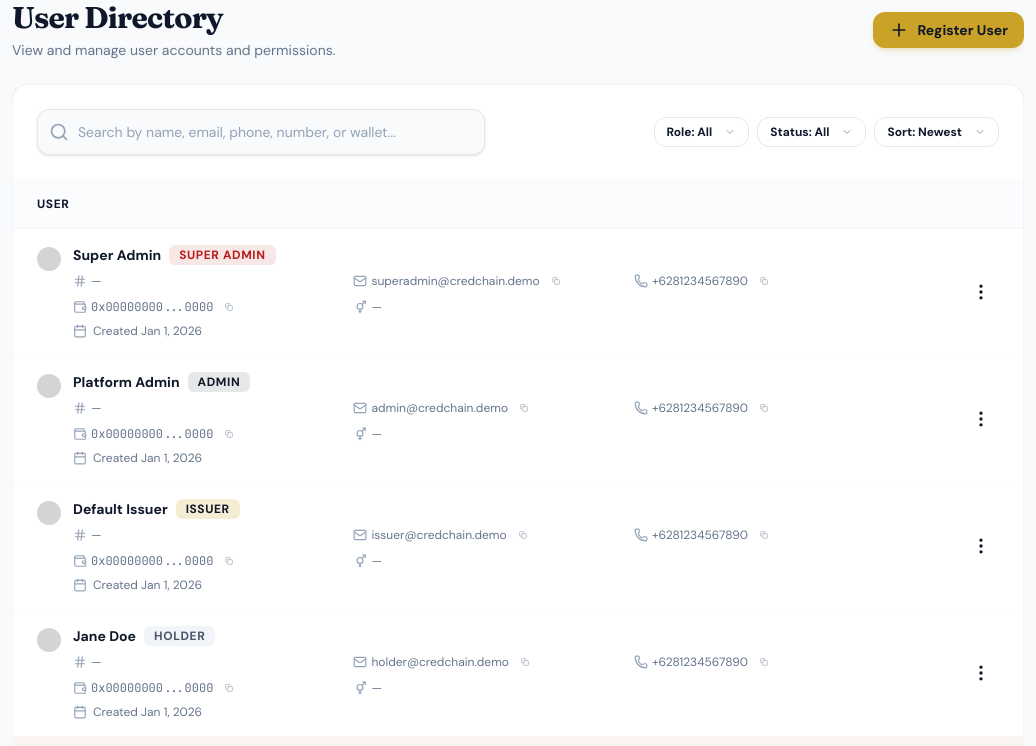
it: UserList › clicking a sort option updates the URL
The width and height of the screenshot is (1036, 746).
Expected: the link "Platform Admin" is shown, [73,372,180,392]
Click the button "Sort: Newest".
click(937, 132)  # box [874,117,999,147]
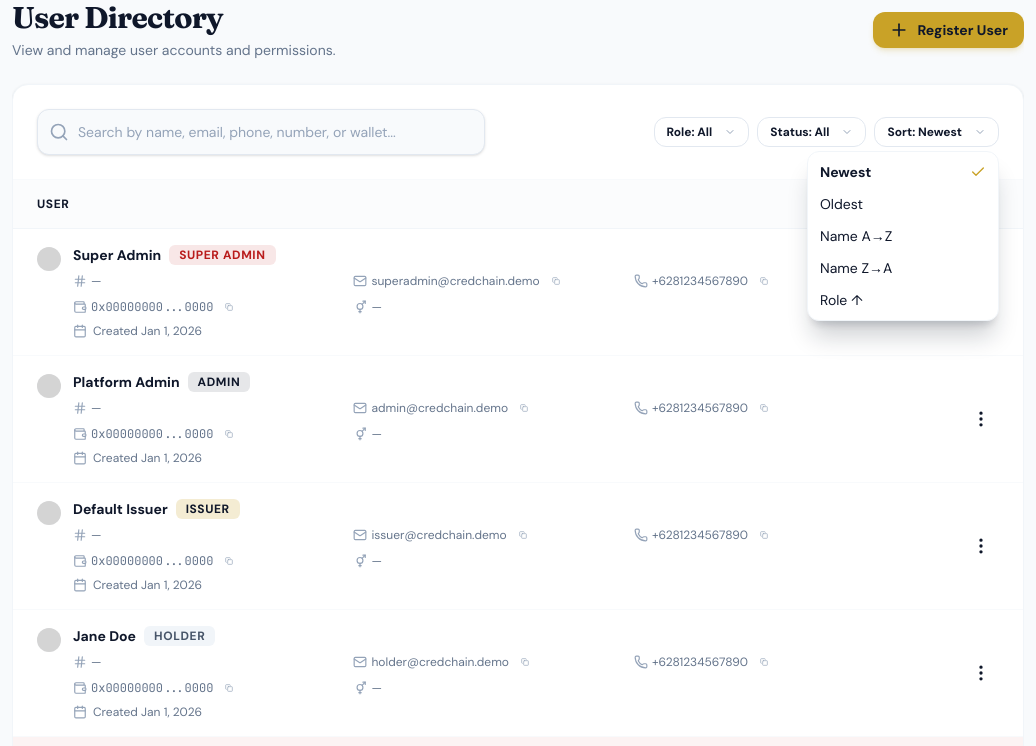
Click the menu item "Name A→Z".
click(856, 236)  # box [820,227,892,245]
(page scrolled)
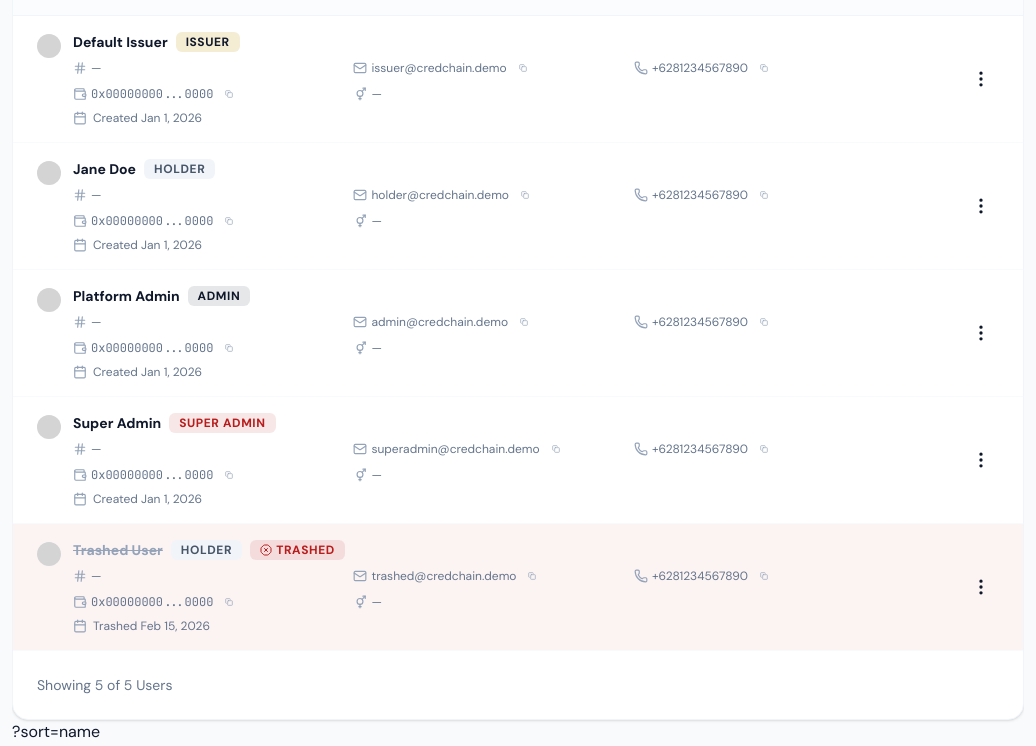
Expected: the text with test id "location-search" shows "sort=name", [12,721,100,742]
